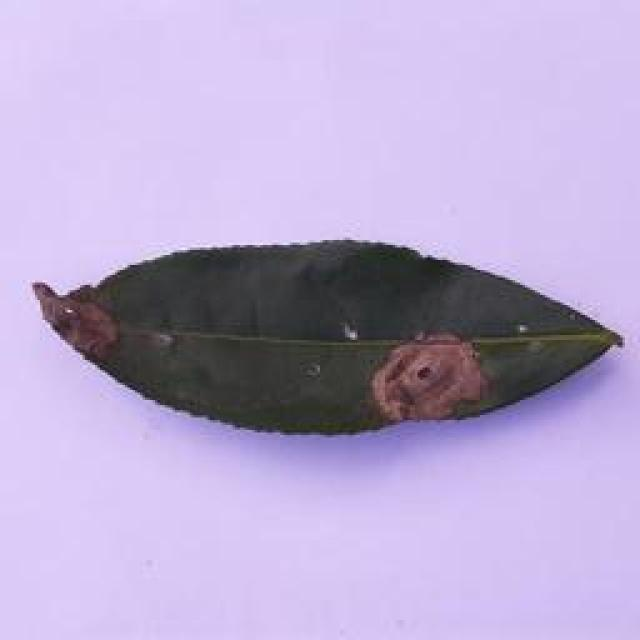Gray Blight: (27, 234, 630, 447)
